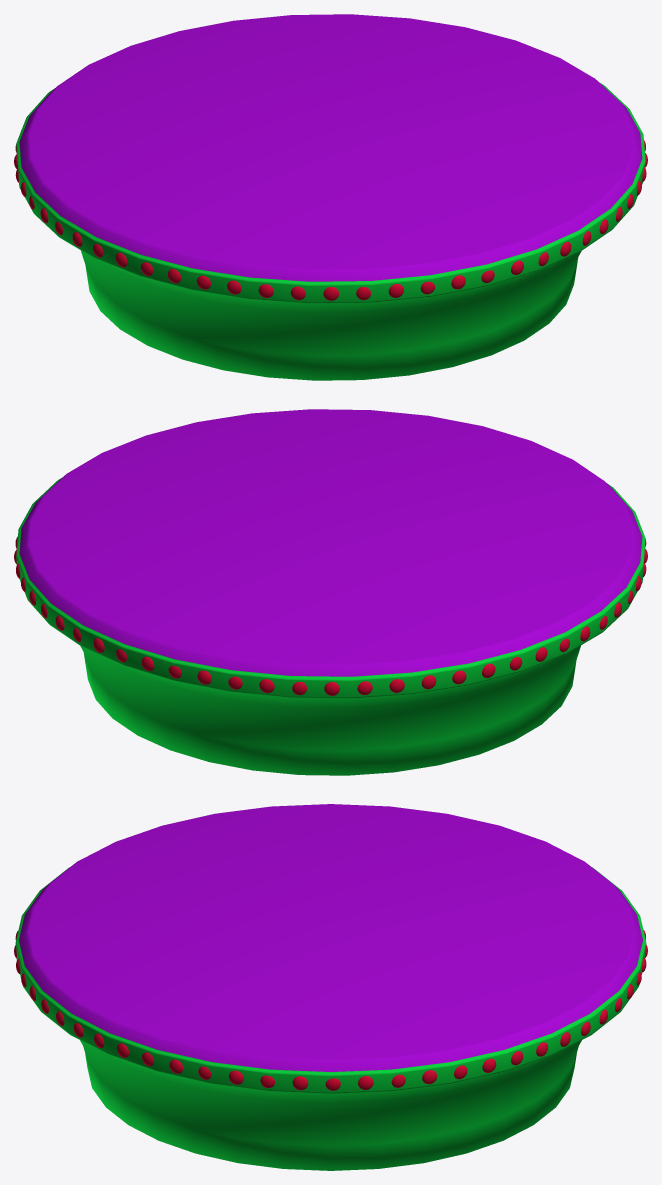
File: Rebana Sike_hi.fbx
The picture shows the model from 3 angles, top to bottom: view 1: azimuth 30°, elevation 25°; view 2: azimuth 150°, elevation 25°; view 3: azimuth 270°, elevation 25°; orthographic projection.
Parts seen in each view (by area): view 1: Sphere.002; view 2: Sphere.002; view 3: Sphere.002.
Boxes of the visible parts, bbox=[...] form: Sphere.002: bbox=[14, 14, 647, 380]; Sphere.002: bbox=[14, 409, 647, 775]; Sphere.002: bbox=[14, 804, 647, 1170].
Bounding box in the file's own units: 2.02 × 0.5005 × 2.02.
